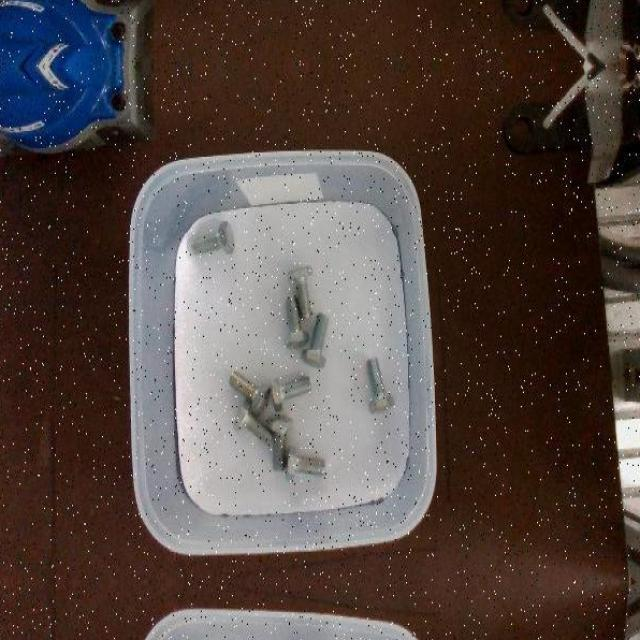screw: (228, 371, 270, 416), (233, 399, 274, 444), (302, 311, 330, 369), (365, 357, 394, 412), (270, 375, 312, 411), (266, 416, 293, 472), (284, 294, 310, 348), (286, 446, 325, 482), (288, 266, 314, 318)
